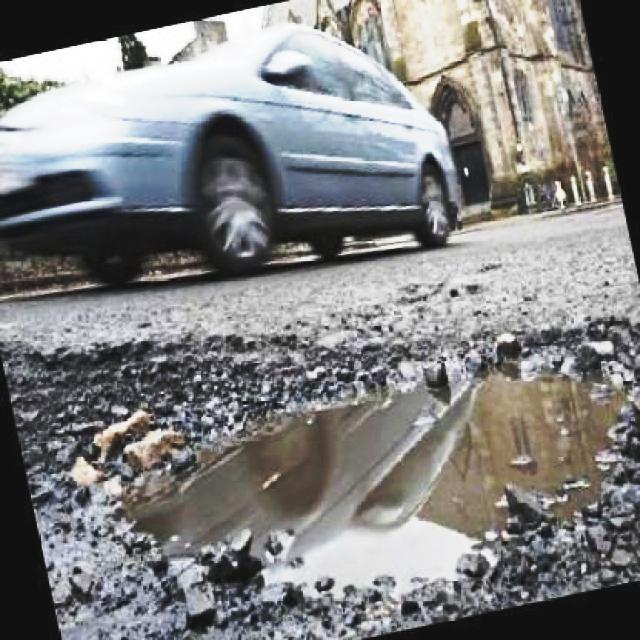pothole: (1, 317, 640, 640)
